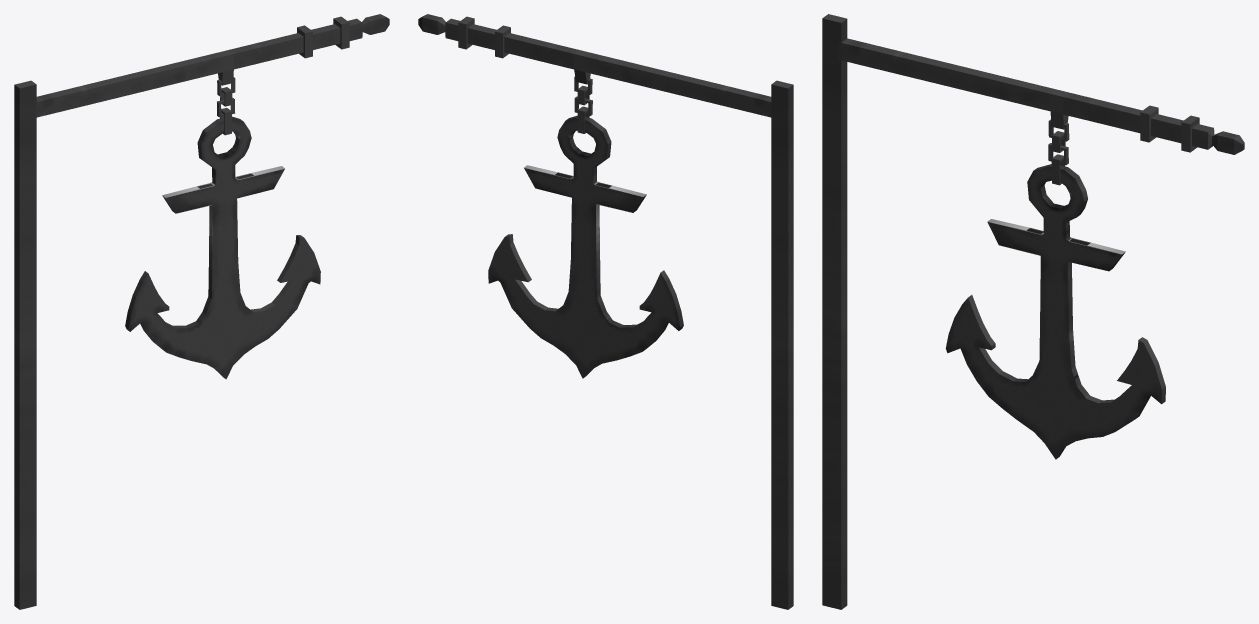
The model's file is Sign_360x9.obj.
3 renders of one model, left to right at view 1: azimuth 30°, elevation 25°; view 2: azimuth 150°, elevation 25°; view 3: azimuth 330°, elevation 25°, orthographic. The views are drawn at different scales.
Parts seen in each view (by area): view 1: Sign_360x9; view 2: Sign_360x9; view 3: Sign_360x9.
Part boxes in pixels (<box>): Sign_360x9: <box>14,14,389,609</box>; Sign_360x9: <box>418,14,793,609</box>; Sign_360x9: <box>822,14,1244,609</box>.
Size of the model in its own units: 2.98 by 3.99 by 0.1145.
